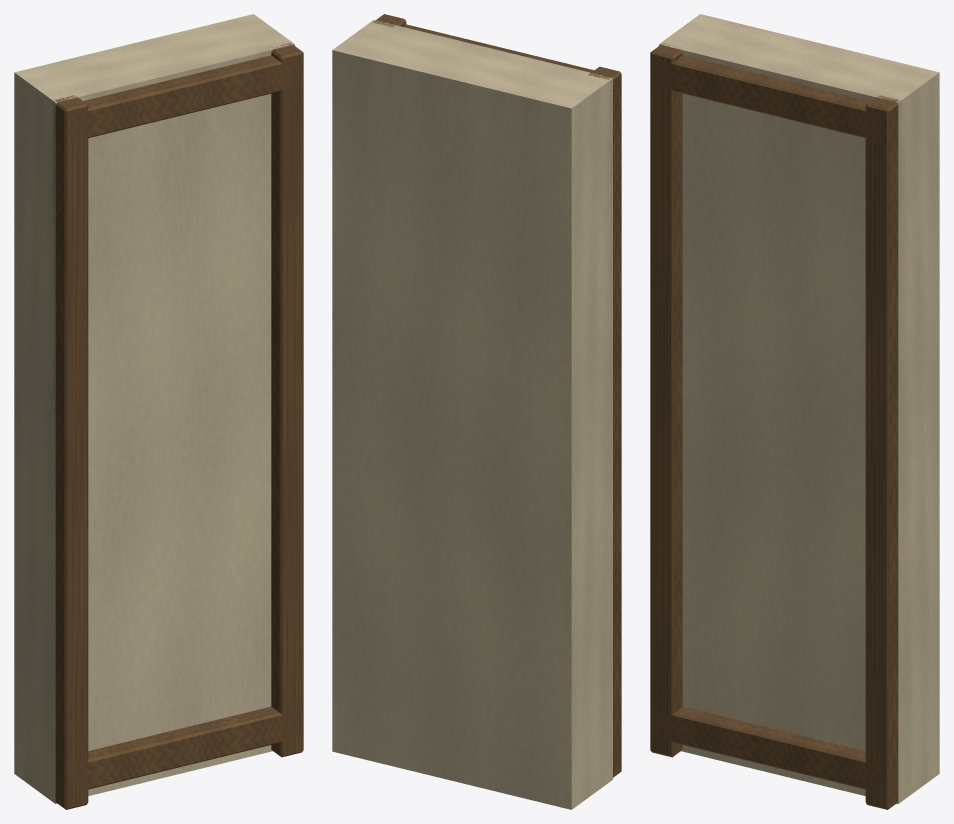
Rendered from module-wall-timber-plaster.glb.
3 views of the same model, side by side, from view 1: azimuth 30°, elevation 25°; view 2: azimuth 150°, elevation 25°; view 3: azimuth 330°, elevation 25° (orthographic).
Parts seen in each view (by area): view 1: module-wall-timber-plaster; view 2: module-wall-timber-plaster; view 3: module-wall-timber-plaster.
Boxes of the visible parts, box(x1,y1,x2,y2) form: module-wall-timber-plaster: box(14, 14, 303, 809); module-wall-timber-plaster: box(332, 14, 621, 809); module-wall-timber-plaster: box(650, 14, 939, 809).
Size of the model in its own units: 1 by 2.8 by 0.37.
1 material, 1 textured.
